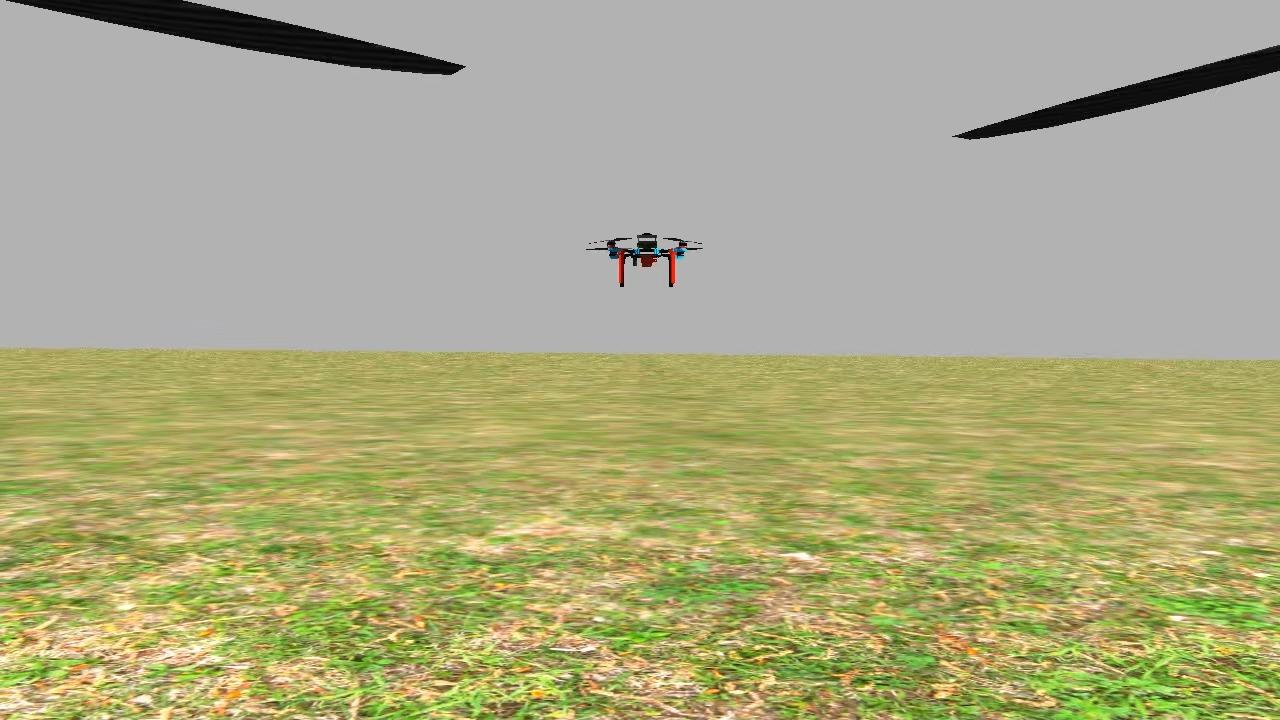UAV: (596, 224, 706, 296)
